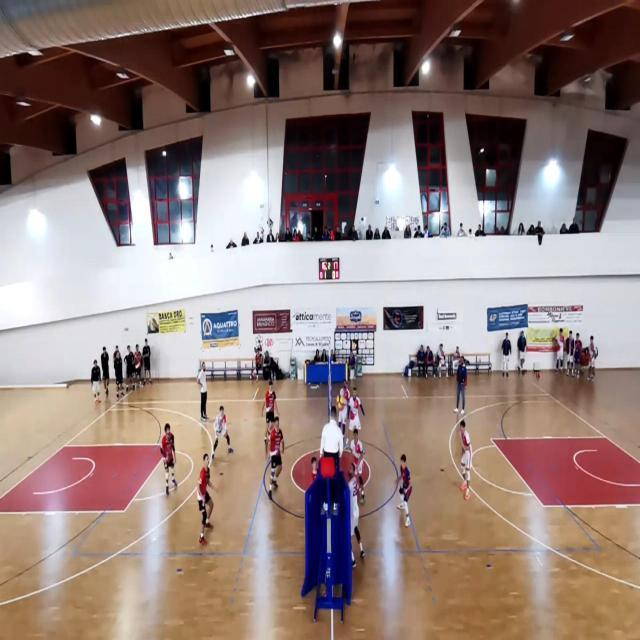volleyball: (336, 396, 344, 408)
